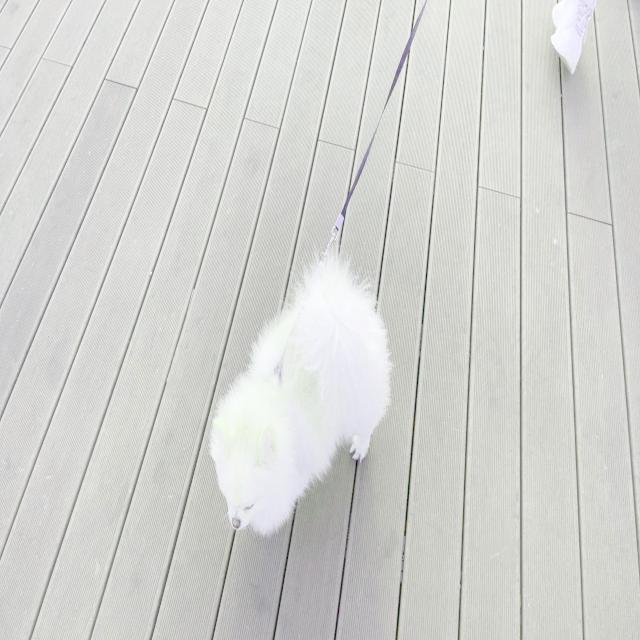Dog: (208, 245, 394, 540)
